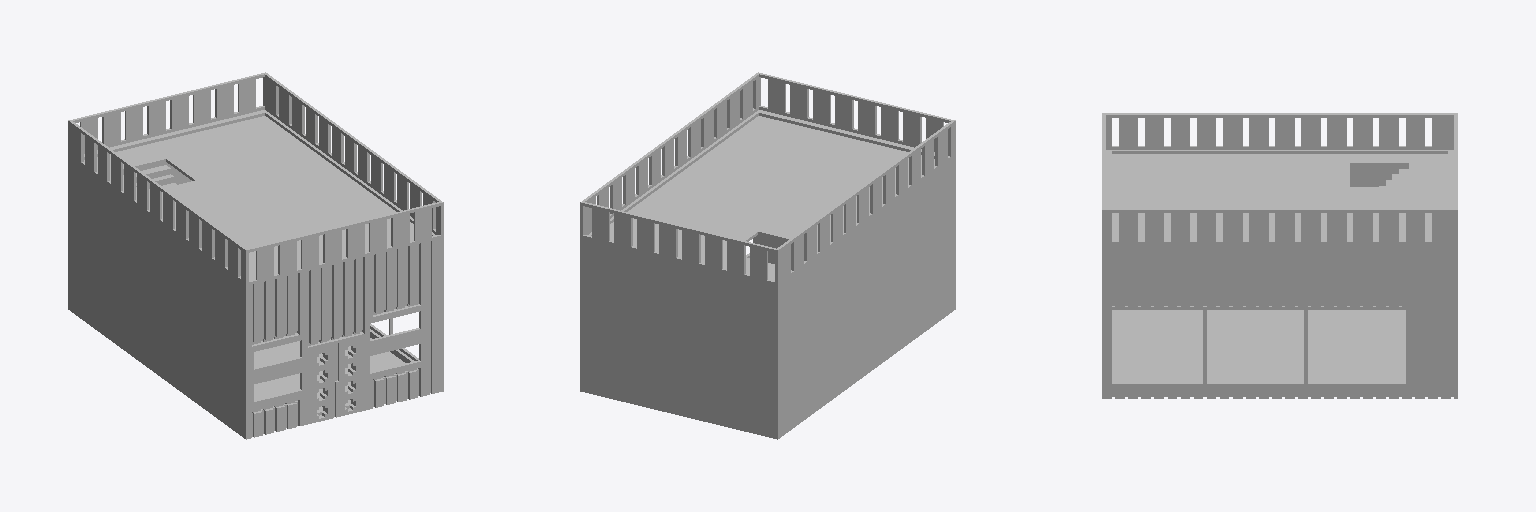
File: _ig store 2.obj
3 renders of one model, left to right at view 1: azimuth 30°, elevation 25°; view 2: azimuth 150°, elevation 25°; view 3: azimuth 270°, elevation 25°, orthographic.
Visible parts, largest first — view 1: object 1; view 2: object 1; view 3: object 1.
Boxes of the visible parts, box(x1,y1,x2,y2) form: object 1: box(68, 72, 443, 439); object 1: box(580, 72, 955, 439); object 1: box(1102, 113, 1457, 398).
Size of the model in its own units: 7 by 6.4 by 10.9.